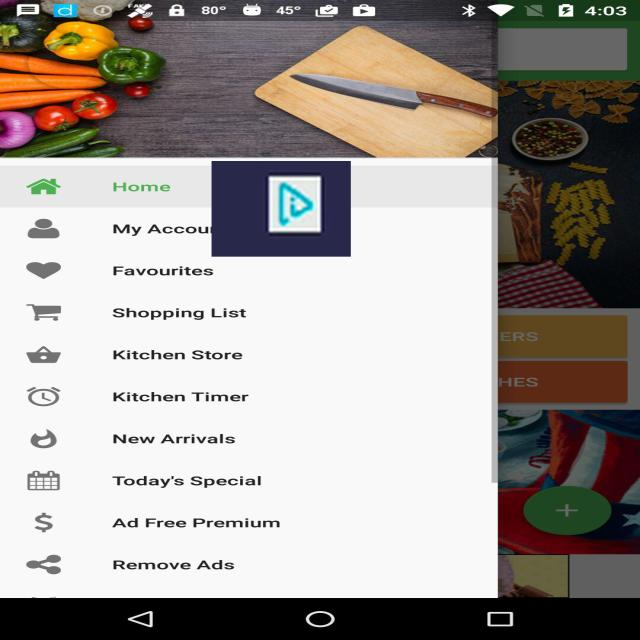sneaking: (211, 161, 351, 257)
